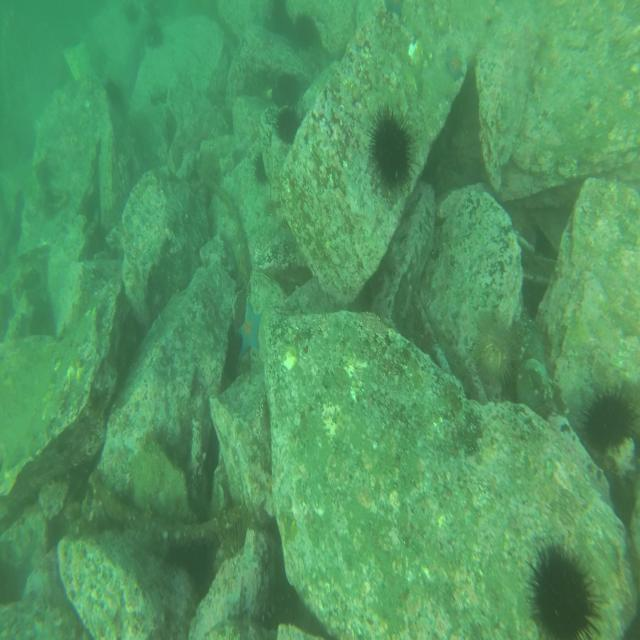echinus: (532, 545, 599, 640), (370, 112, 415, 183), (587, 388, 635, 452), (477, 319, 516, 384), (276, 108, 300, 146), (275, 72, 300, 102)
starfish: (236, 303, 263, 360)
